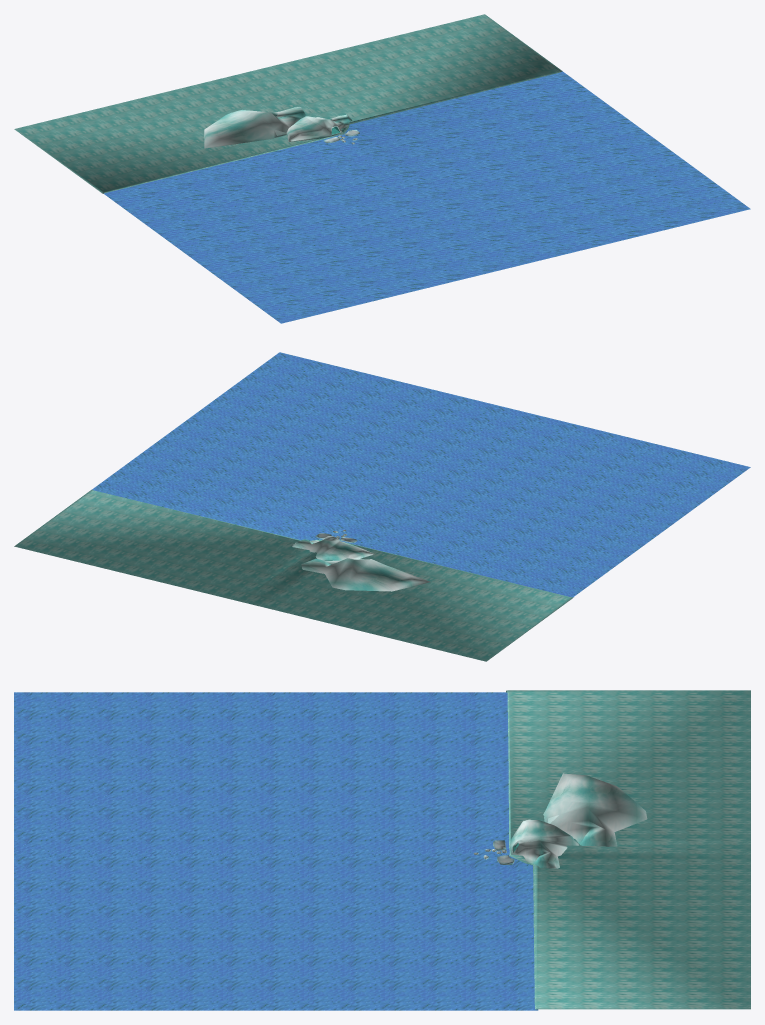
File: ENVO_polarworld.obj
3 renders of one model, top to bottom at view 1: azimuth 30°, elevation 25°; view 2: azimuth 150°, elevation 25°; view 3: azimuth 270°, elevation 25°, orthographic. The views are drawn at different scales.
Parts seen in each view (by area): view 1: polarworldwater, polarworld; view 2: polarworldwater, polarworld; view 3: polarworldwater, polarworld.
Part boxes in pixels (bbox=[...]): polarworldwater: bbox=[104, 71, 750, 323]; polarworld: bbox=[14, 14, 562, 193]; polarworldwater: bbox=[92, 352, 750, 597]; polarworld: bbox=[14, 489, 573, 661]; polarworldwater: bbox=[14, 692, 538, 1010]; polarworld: bbox=[473, 690, 750, 1009].
Size of what is drawn, in the model's own units: 11091 by 624 by 10813.
8 materials, 7 textured.
